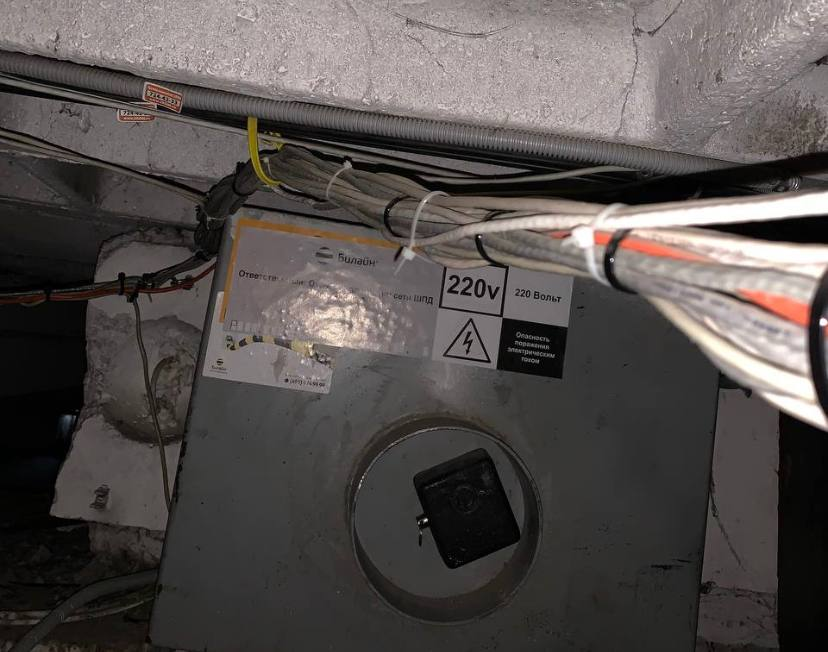shta-3: (144, 203, 721, 645)
